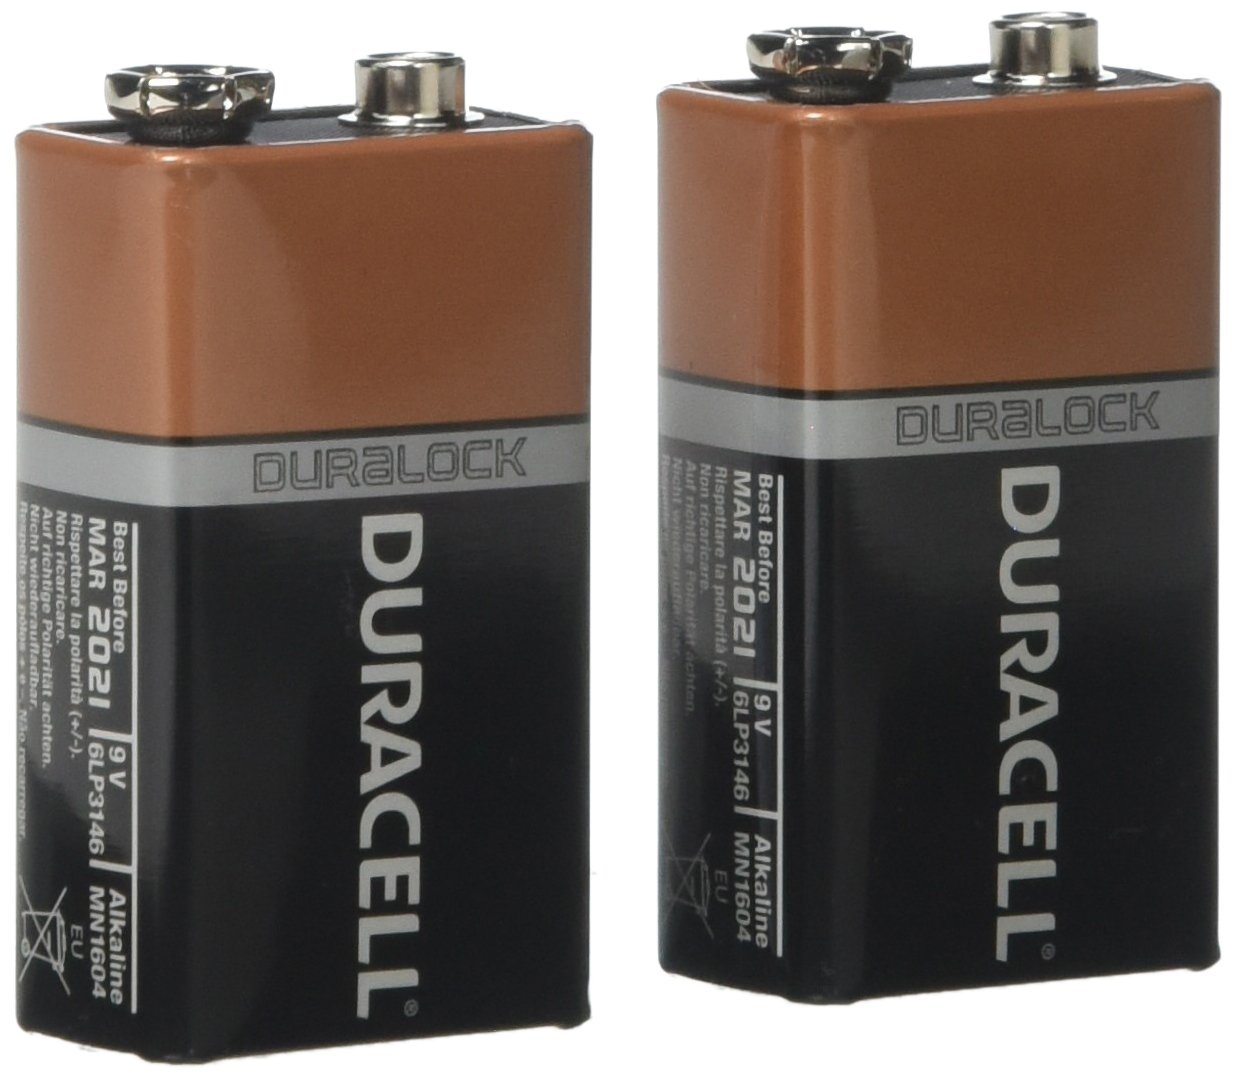9V: (643, 9, 1227, 1008), (25, 62, 600, 1065)
